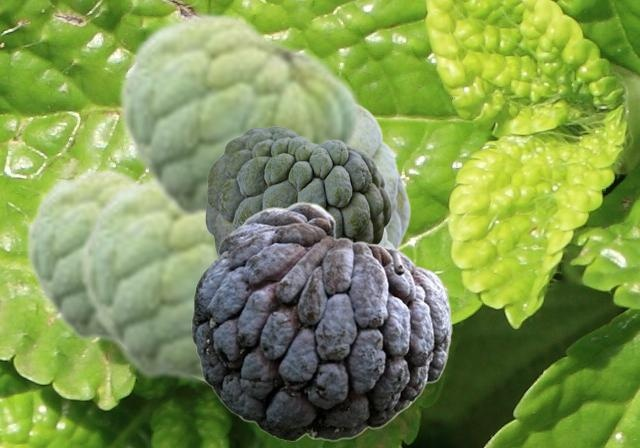atis: (191, 201, 451, 440), (116, 9, 361, 224), (78, 173, 216, 387), (205, 126, 390, 255), (23, 167, 139, 347), (356, 105, 410, 248)
